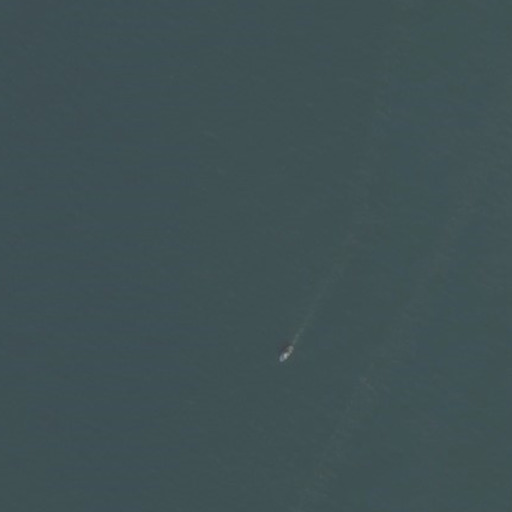ship: (276, 342, 297, 365)
